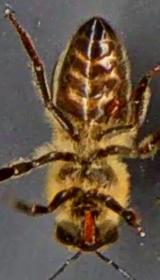varroa_mite: (97, 88, 130, 122)
